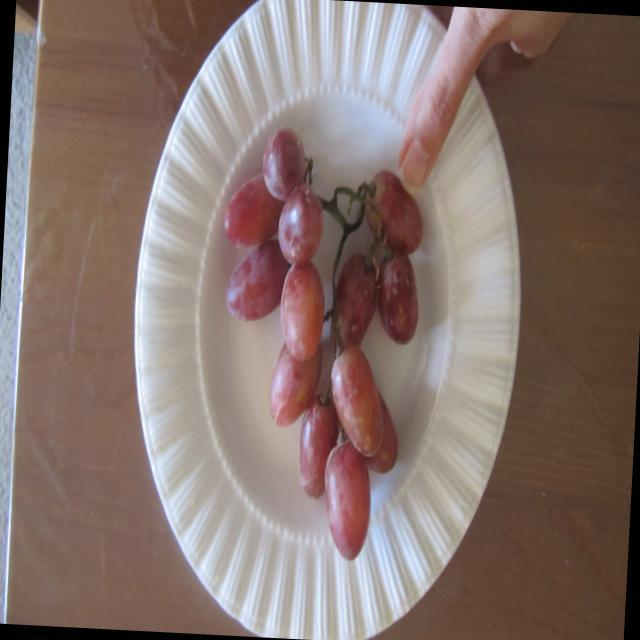Finger: (394, 38, 472, 200)
Grapes: (202, 177, 428, 572)
